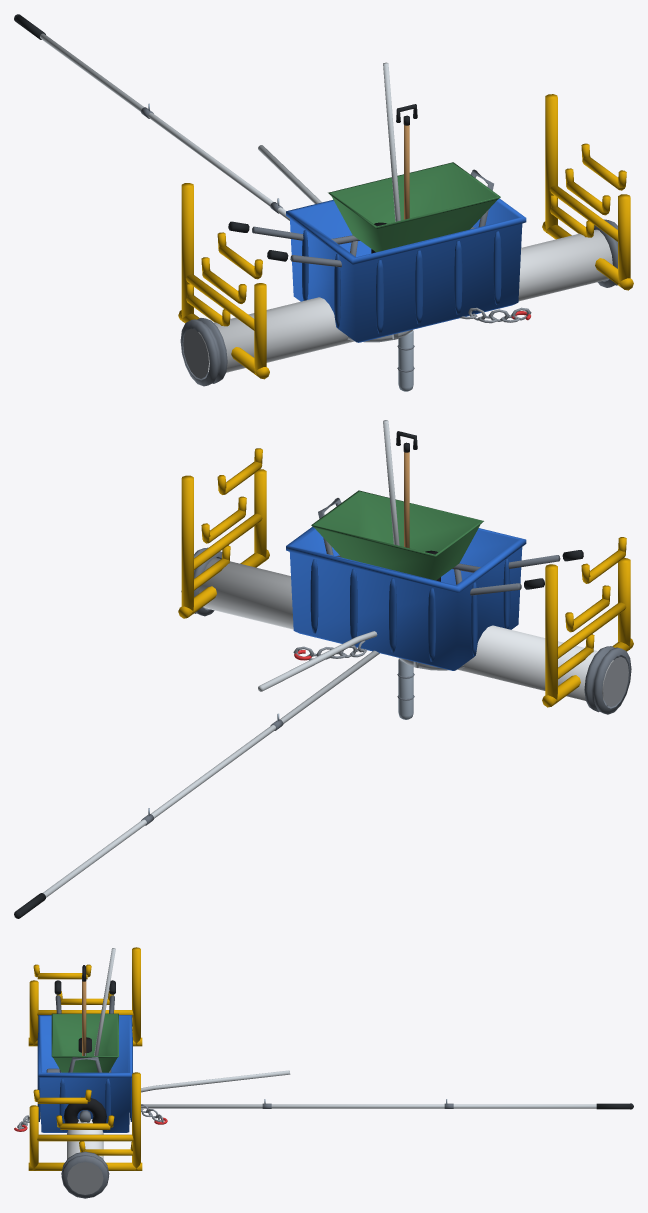
The model's file is props.glb.
The picture shows the model from 3 angles, top to bottom: view 1: azimuth 30°, elevation 25°; view 2: azimuth 150°, elevation 25°; view 3: azimuth 270°, elevation 25°; orthographic projection. The views are drawn at different scales.
Visible parts, largest first — view 1: SparesBin, Pipe3m, PipeRack, Wheelbarrow, BullFloatPole, ConcreteRake, PokerHead, Shovel, ChainSling, BullFloat; view 2: SparesBin, PipeRack, Pipe3m, Wheelbarrow, BullFloatPole, BullFloat, PokerHead, Shovel, ConcreteRake; view 3: PipeRack, SparesBin, Wheelbarrow, BullFloatPole, Pipe3m, BullFloat, ConcreteRake, Shovel, ChainSling.
Part boxes in pixels (<box>): SparesBin: <box>286,198,526,342</box>; Pipe3m: <box>180,219,617,386</box>; PipeRack: <box>178,94,633,379</box>; Wheelbarrow: <box>228,162,500,267</box>; BullFloatPole: <box>14,14,289,220</box>; ConcreteRake: <box>383,62,400,221</box>; PokerHead: <box>397,330,414,391</box>; Shovel: <box>396,104,417,219</box>; ChainSling: <box>460,307,531,323</box>; BullFloat: <box>258,145,321,203</box>; SparesBin: <box>286,526,526,670</box>; PipeRack: <box>178,448,633,707</box>; Pipe3m: <box>181,547,631,714</box>; Wheelbarrow: <box>311,490,583,595</box>; BullFloatPole: <box>14,650,379,918</box>; BullFloat: <box>258,631,377,691</box>; PokerHead: <box>397,659,414,719</box>; Shovel: <box>396,431,417,548</box>; ConcreteRake: <box>383,420,399,545</box>; PipeRack: <box>28,947,142,1170</box>; SparesBin: <box>37,1015,132,1132</box>; Wheelbarrow: <box>51,980,118,1123</box>; BullFloatPole: <box>141,1099,633,1109</box>; Pipe3m: <box>61,1119,109,1198</box>; BullFloat: <box>141,1070,290,1092</box>; ConcreteRake: <box>94,948,115,1055</box>; Shovel: <box>82,965,86,1055</box>; ChainSling: <box>14,1104,167,1131</box>.
Bounding box in the file's own units: 3 × 2.13 × 5.45.
